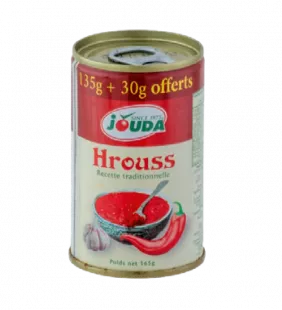JOUDA: (59, 20, 221, 291)
